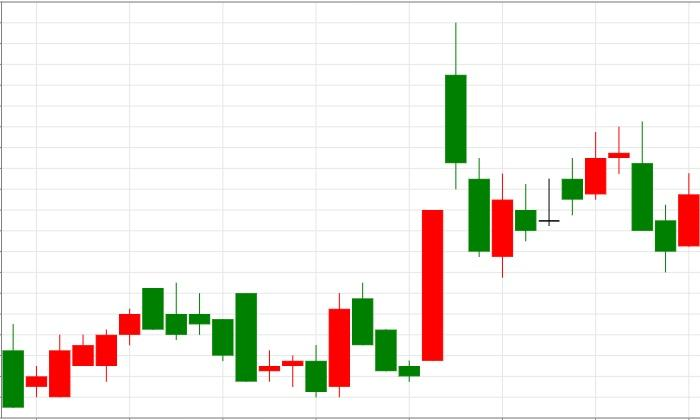evening_star_fall: (492, 121, 654, 278)
